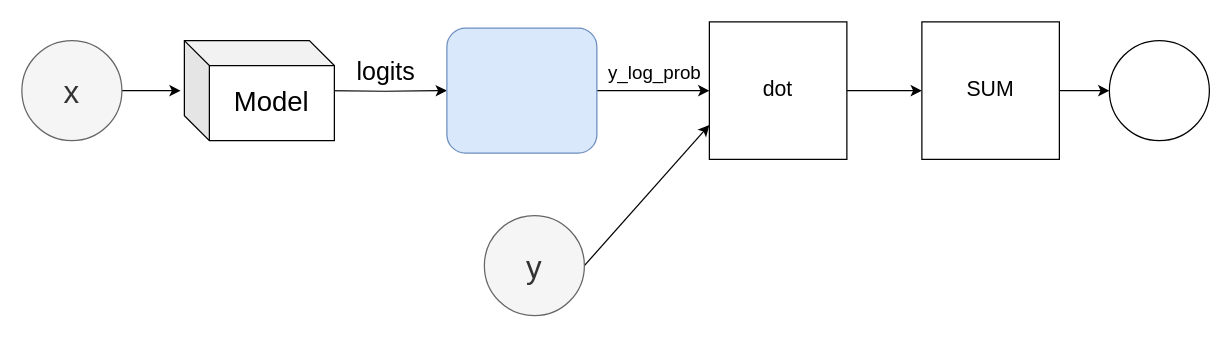
This 1231x338 diagram has some shape labels left out. Each missing label, with the centre of its shape:
"CE LOSS" belongs at point 1158,90.
"log_softmax" belongs at point 521,90.
